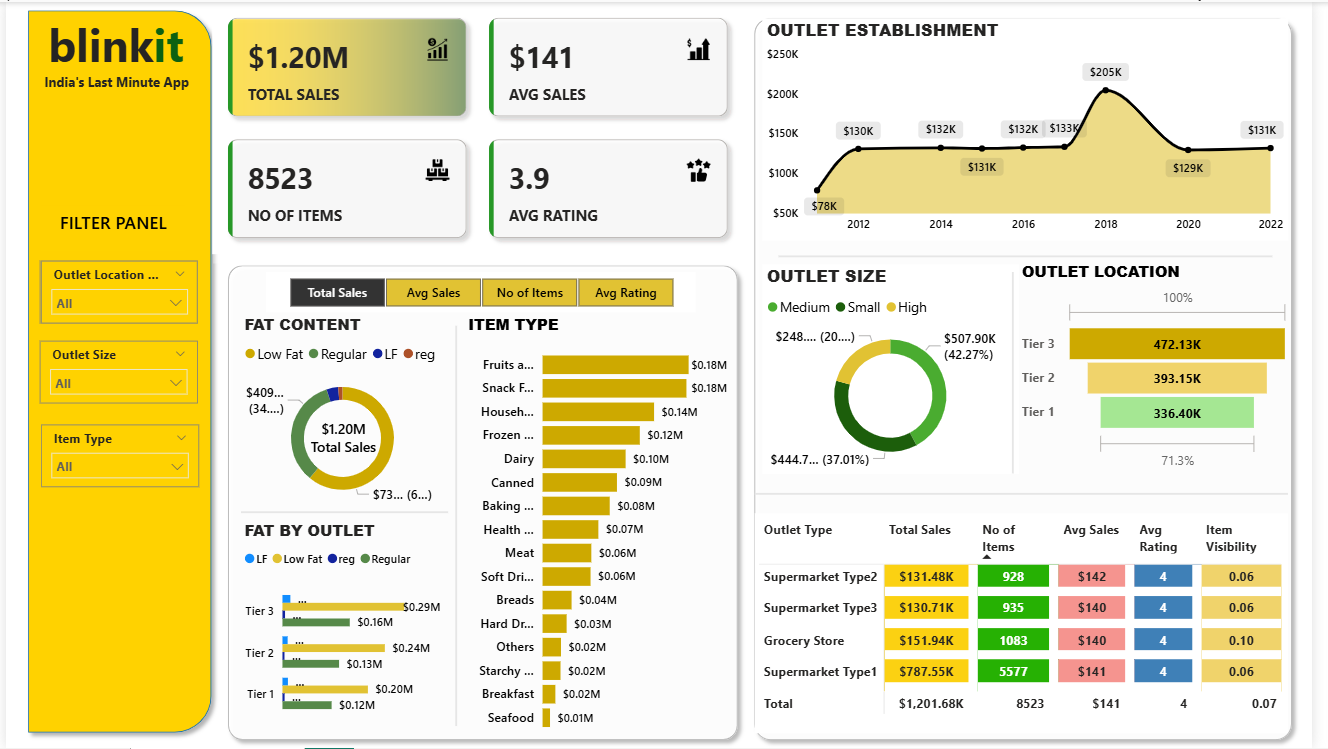

This screenshot's page, from the dashboard's own definition file:
{"tool":"powerbi","page":{"name":"Blinkit_Dashboard","canvas":[1400,800],"ordinal":0},"visuals":[{"type":"shape","box":[15,0,214.6,792.5],"z":0},{"type":"textbox","box":[36,7.5,163.6,79.5],"z":1000},{"type":"textbox","box":[36,70.5,184.6,46.5],"z":2000},{"type":"cardVisual","fields":{"Data":["BlinkIT Grocery Data.Total Sales","BlinkIT Grocery Data.Avg Sales","BlinkIT Grocery Data.No of Items","BlinkIT Grocery Data.Avg Rating"]},"box":[220.6,0,570.3,270.2],"z":3000},{"type":"shape","box":[229.6,273.2,564.3,526.8],"z":4000},{"type":"donutChart","title":" FAT CONTENT","fields":{"Y":["BlinkIT Grocery Data.Total Sales"],"Category":["BlinkIT Grocery Data.Item Fat Content"]},"box":[250.6,333.2,220.6,214.6],"z":5000},{"type":"slicer","fields":{"Values":["Metrics.Metrics"]},"box":[279.2,289.7,460.8,43.5],"z":6000},{"type":"cardVisual","fields":{"Data":["BlinkIT Grocery Data.Total Sales"]},"box":[300.2,427.7,123.1,78],"z":7000},{"type":"clusteredBarChart","title":"FAT BY OUTLET","fields":{"Y":["BlinkIT Grocery Data.Total Sales"],"Category":["BlinkIT Grocery Data.Outlet Location Type"],"Series":["BlinkIT Grocery Data.Item Fat Content"]},"box":[250.6,555.3,220.6,228.1],"z":8000},{"type":"shape","box":[252.1,538.8,222.1,16.5],"z":9000},{"type":"shape","box":[474.3,346.7,16.5,429.2],"z":10000},{"type":"barChart","title":"ITEM TYPE","fields":{"Y":["BlinkIT Grocery Data.Total Sales"],"Category":["BlinkIT Grocery Data.Item Type"]},"box":[490.8,333.2,288.2,459.3],"z":11000},{"type":"shape","box":[794,7.5,594.3,792.5],"z":12000},{"type":"lineChart","title":"OUTLET ESTABLISHMENT","fields":{"Y":["BlinkIT Grocery Data.Total Sales"],"Category":["BlinkIT Grocery Data.Outlet Establishment Year"]},"box":[810.5,18,564.3,238.6],"z":13000},{"type":"shape","box":[803,520.8,571.8,12],"z":14000},{"type":"donutChart","title":"OUTLET SIZE","fields":{"Y":["BlinkIT Grocery Data.Total Sales"],"Category":["BlinkIT Grocery Data.Outlet Size"]},"box":[810.5,282.2,275,225],"z":15000},{"type":"shape","box":[1073.1,289.7,12,216.1],"z":16000},{"type":"funnel","title":"OUTLET LOCATION","fields":{"Y":["Sum(BlinkIT Grocery Data.Sales)"],"Category":["BlinkIT Grocery Data.Outlet Location Type"]},"box":[1085.1,277.7,297.2,229.6],"z":17000},{"type":"shape","box":[828.5,267.2,529.8,12],"z":18000},{"type":"pivotTable","fields":{"Rows":["BlinkIT Grocery Data.Outlet Type"],"Values":["BlinkIT Grocery Data.Total Sales","BlinkIT Grocery Data.No of Items","BlinkIT Grocery Data.Avg Sales","BlinkIT Grocery Data.Avg Rating","Avg(BlinkIT Grocery Data.Item Visibility)"]},"box":[803,547.8,571.8,235.6],"z":19000},{"type":"slicer","fields":{"Values":["BlinkIT Grocery Data.Outlet Location Type"]},"box":[36,277.7,169.6,67.5],"z":20000},{"type":"slicer","fields":{"Values":["BlinkIT Grocery Data.Outlet Size"]},"box":[36,363.2,169.6,67.5],"z":21000},{"type":"slicer","fields":{"Values":["BlinkIT Grocery Data.Outlet Location Type"]},"box":[37.5,277.7,168.1,67.5],"z":22000},{"type":"slicer","fields":{"Values":["BlinkIT Grocery Data.Item Type"]},"box":[37.5,453.3,169.6,67.5],"z":23000},{"type":"textbox","box":[37.5,219.1,154.6,48],"z":24000}]}

Visuals, with their boxes in screenshot pixels (x1, y1, x2, y2), scaled from the page's 1400x800 canvas onto the 1328x749 screenshot:
shape: box=[14, 0, 218, 742]
textbox: box=[34, 7, 189, 81]
textbox: box=[34, 66, 209, 110]
cardVisual - BlinkIT Grocery Data.Total Sales x BlinkIT Grocery Data.Avg Sales: box=[209, 0, 750, 253]
shape: box=[218, 256, 753, 748]
" FAT CONTENT" donutChart: box=[238, 312, 447, 513]
slicer - Metrics.Metrics: box=[265, 271, 702, 312]
cardVisual - BlinkIT Grocery Data.Total Sales: box=[285, 400, 402, 473]
"FAT BY OUTLET" clusteredBarChart: box=[238, 520, 447, 733]
shape: box=[239, 504, 450, 520]
shape: box=[450, 325, 466, 726]
"ITEM TYPE" barChart: box=[466, 312, 739, 742]
shape: box=[753, 7, 1317, 748]
"OUTLET ESTABLISHMENT" lineChart: box=[769, 17, 1304, 240]
shape: box=[762, 488, 1304, 499]
"OUTLET SIZE" donutChart: box=[769, 264, 1030, 475]
shape: box=[1018, 271, 1029, 474]
"OUTLET LOCATION" funnel: box=[1029, 260, 1311, 475]
shape: box=[786, 250, 1288, 261]
pivotTable - BlinkIT Grocery Data.Outlet Type x BlinkIT Grocery Data.Total Sales: box=[762, 513, 1304, 733]
slicer - BlinkIT Grocery Data.Outlet Location Type: box=[34, 260, 195, 323]
slicer - BlinkIT Grocery Data.Outlet Size: box=[34, 340, 195, 403]
slicer - BlinkIT Grocery Data.Outlet Location Type: box=[36, 260, 195, 323]
slicer - BlinkIT Grocery Data.Item Type: box=[36, 424, 196, 488]
textbox: box=[36, 205, 182, 250]
